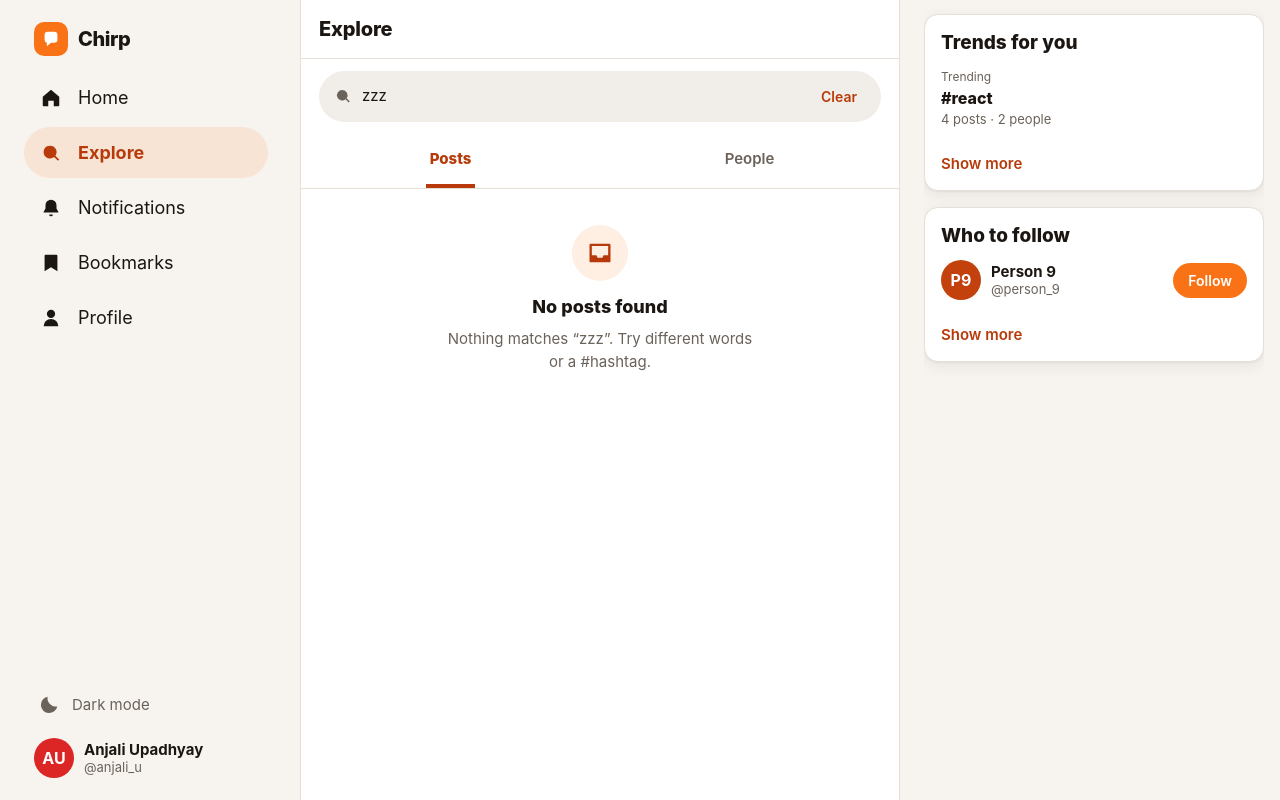
Scenario: Explore › shows "no results" states for posts and people
Expected: the heading "No posts found" is shown, [532,293,668,320]
Click the tab "People" at (750, 161), box [600,134,899,188]
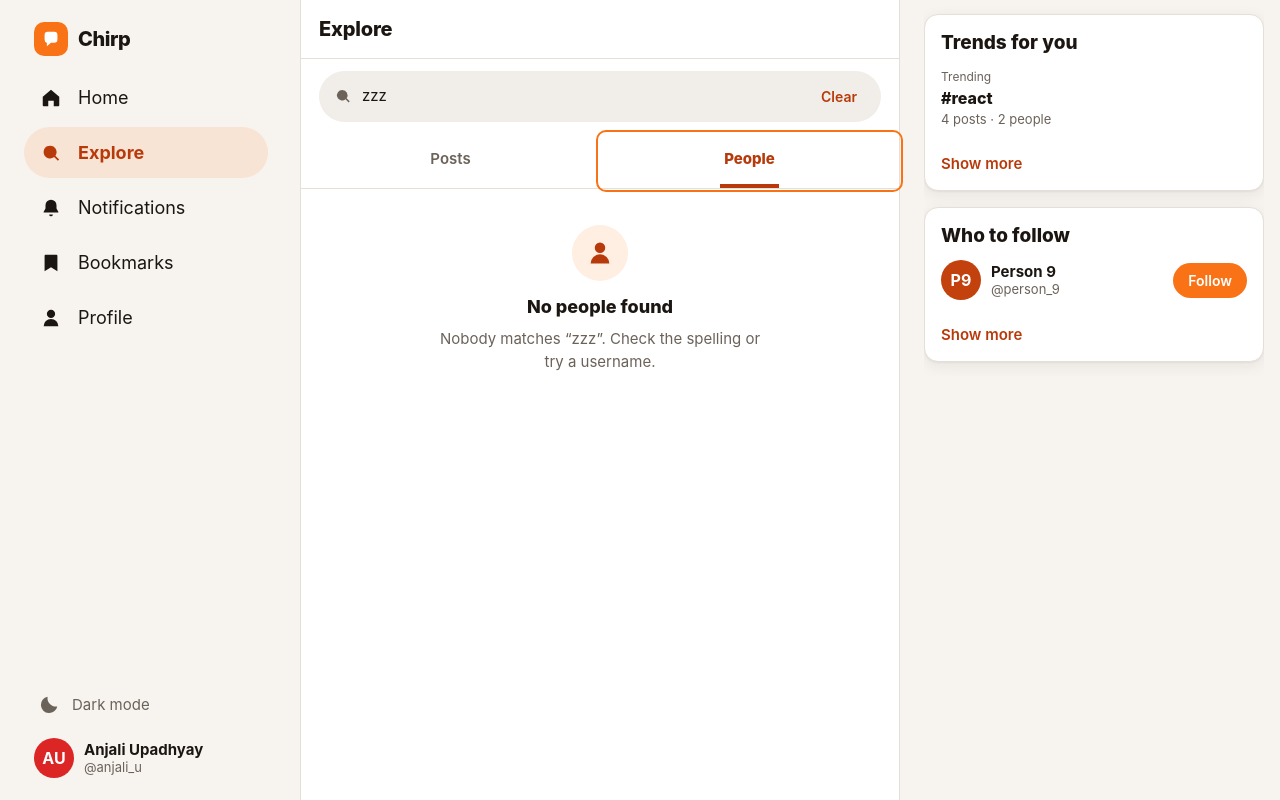
Expected: the heading "No people found" is shown, [527,293,673,320]
